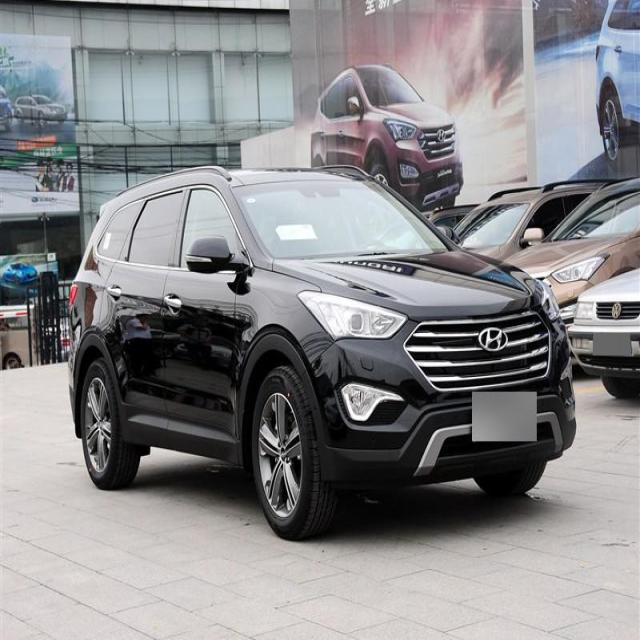back_right_side_light: (70, 282, 79, 307)
door: (101, 188, 190, 438)
front_bumper: (305, 314, 577, 481)
front_glass: (234, 182, 448, 262)
front_left_side_light: (534, 282, 562, 328)
front_right_side_door: (158, 174, 243, 460)
front_right_side_light: (296, 288, 410, 348)
front_right_side_mirror: (187, 235, 234, 279)
wheel: (250, 368, 324, 540), (82, 362, 130, 488)
